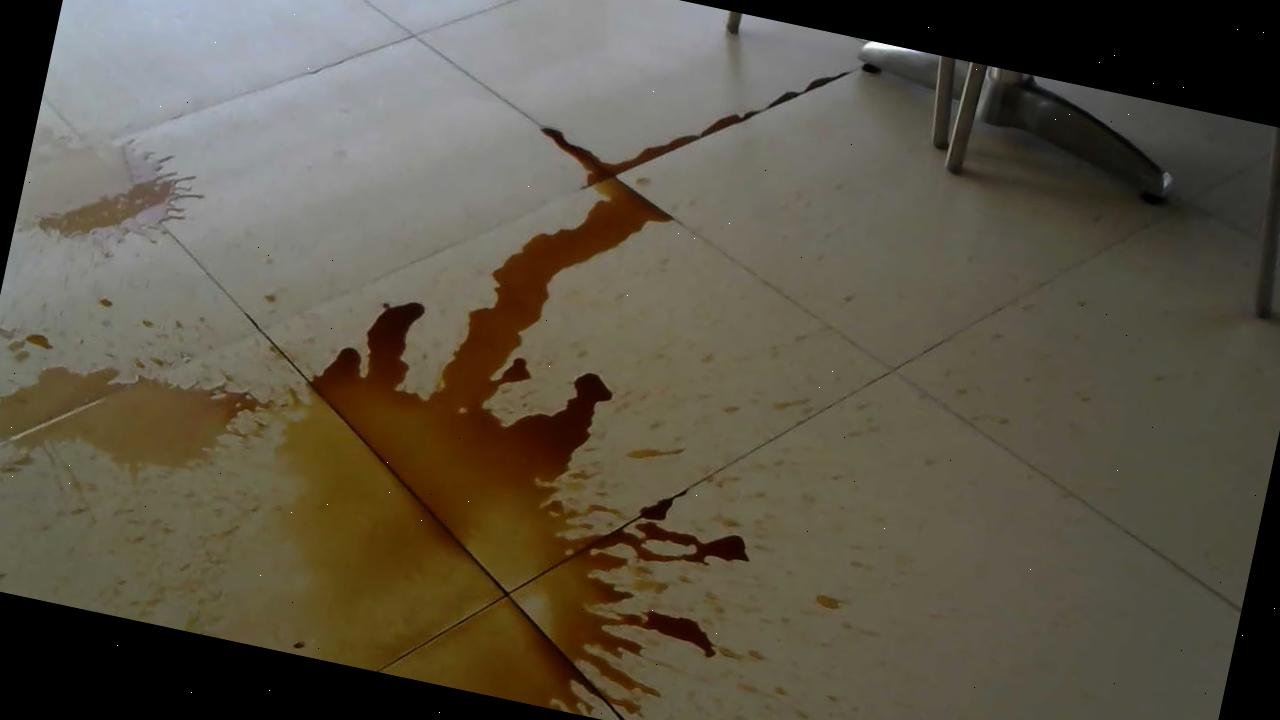dirty_floor: (0, 16, 928, 720)
